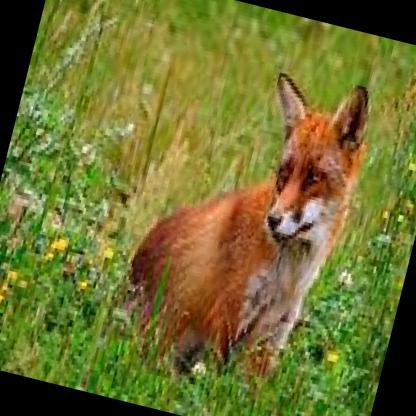dhole: (97, 26, 381, 398)
